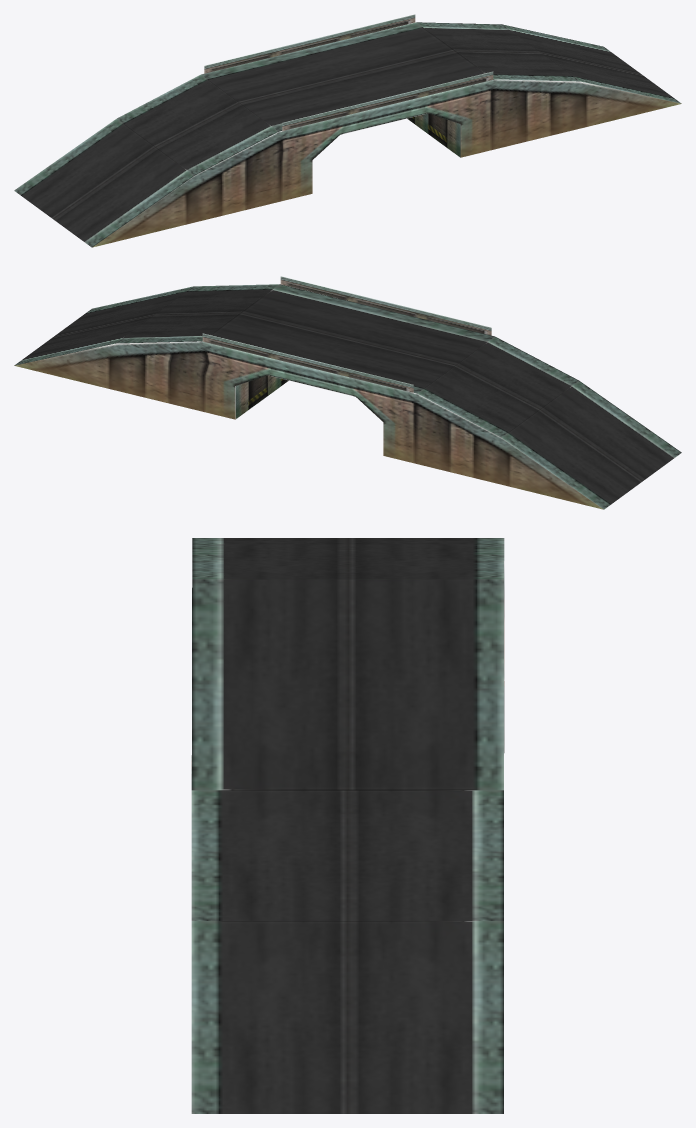
The model's file is bridge02.glb.
3 views of the same model, one above another, from view 1: azimuth 30°, elevation 25°; view 2: azimuth 150°, elevation 25°; view 3: azimuth 270°, elevation 25° (orthographic). The views are drawn at different scales.
Parts seen in each view (by area): view 1: bridge02; view 2: bridge02; view 3: bridge02.
Boxes of the visible parts, box(x1,y1,x2,y2) form: bridge02: box(14, 14, 681, 247); bridge02: box(14, 276, 681, 509); bridge02: box(191, 538, 504, 1113).
Bounding box in the file's own units: 3779 × 480 × 866.
1 material, 1 textured.
